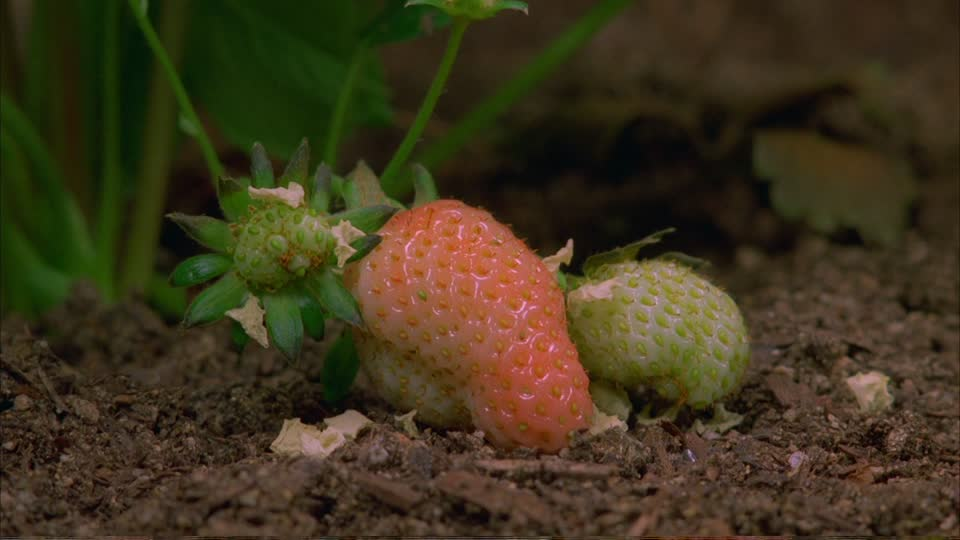unripe_strawberry: (336, 198, 596, 458), (565, 258, 754, 414), (230, 198, 331, 290)
